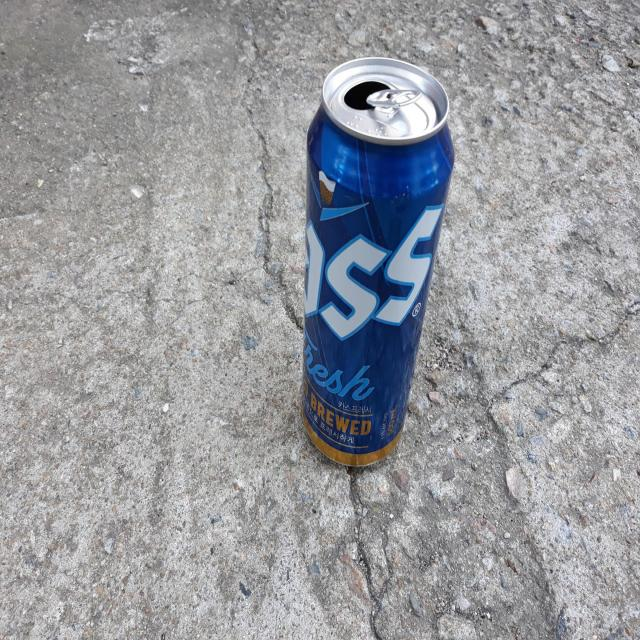can: (302, 56, 455, 466)
